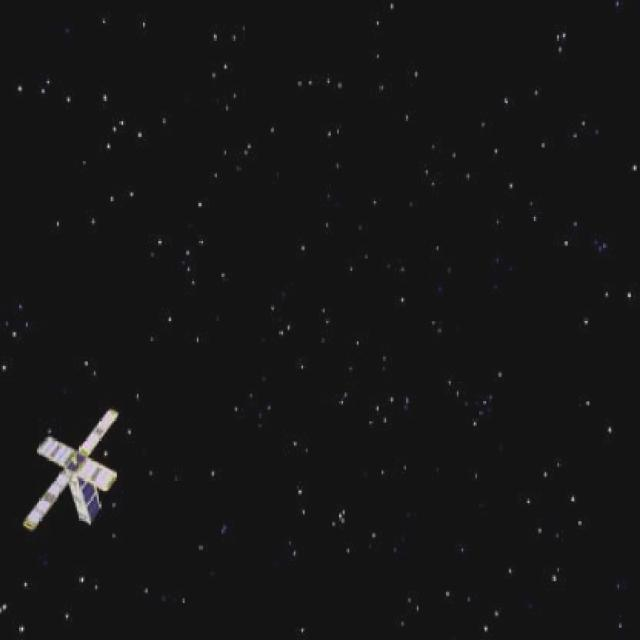medium_debris: (22, 413, 120, 542)
